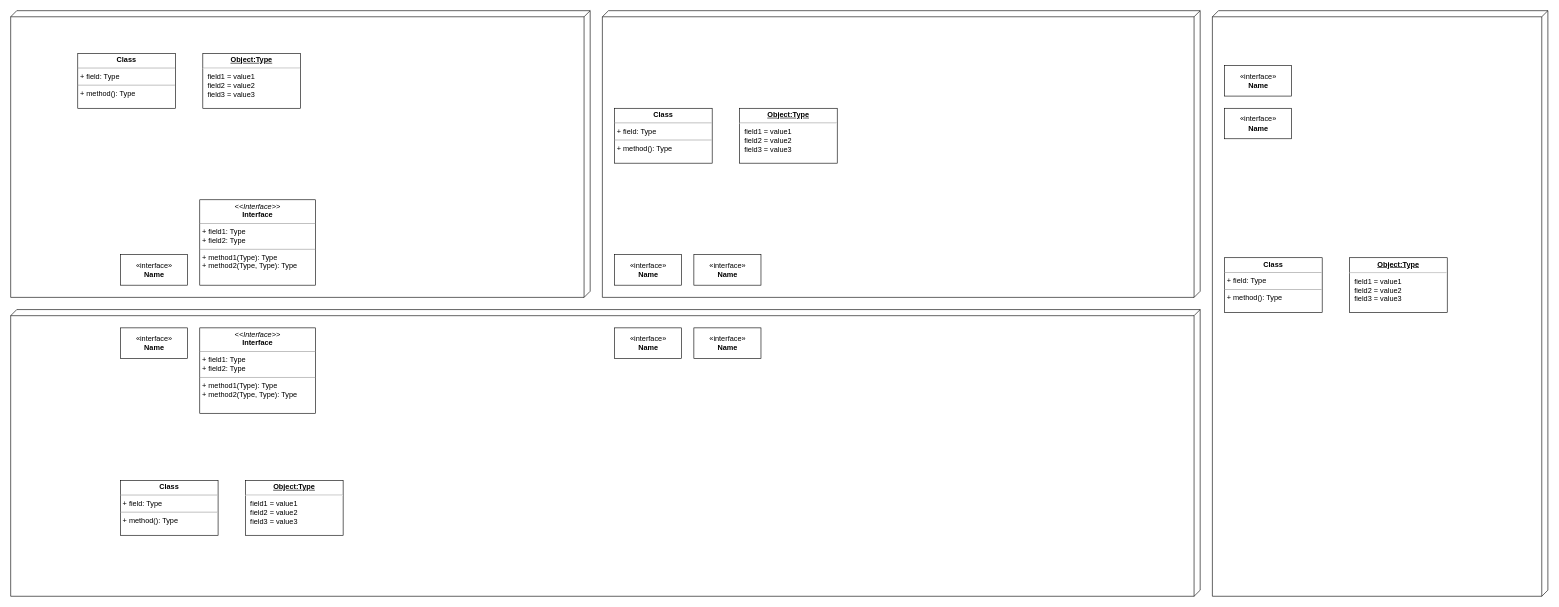
The diagram is 1559 pixels wide and 607 high, and some of its shapes have lost their labels. Each missing label, with the box of its shape:
C# Interface Service (HTML / Stream / XML /: (602, 10, 1200, 297)
C# Server Komponente: (10, 309, 1200, 596)
C++ Sensormodule: (10, 10, 590, 297)
Clients (Browser / C# Software): (1212, 10, 1548, 596)
